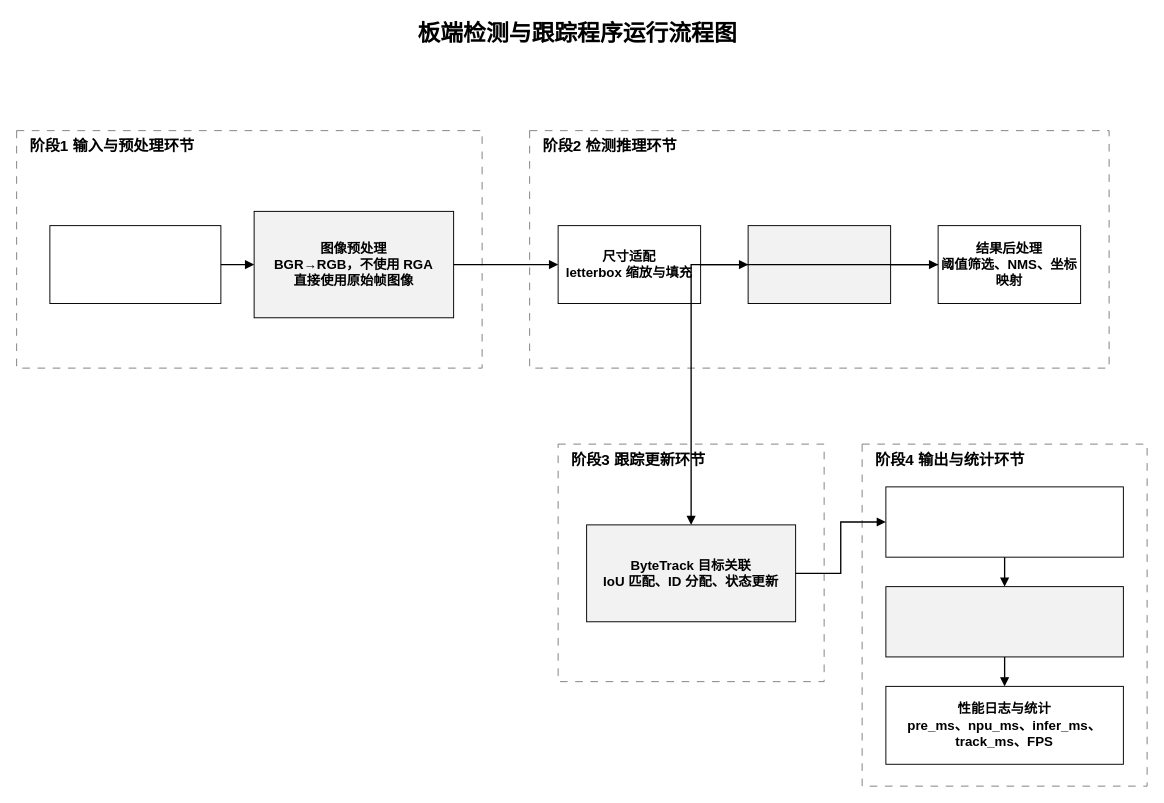
Some shapes in this 1164 by 803 pixel diagram are drawn without their labels. The shapes that lost their labels are listed below. From the top down, each one's centre as x and y in pixels, then its label:
(x=135, y=264): 视频读取 OpenCV 逐帧读取输入视频
(x=819, y=264): NPU 推理 RKNN Runtime 调用 NPU
(x=1004, y=521): 结果绘制与显示 绘制检测框、ID 标签与 HUD 信息
(x=1004, y=621): 结果保存 输出视频或单帧图片结果
